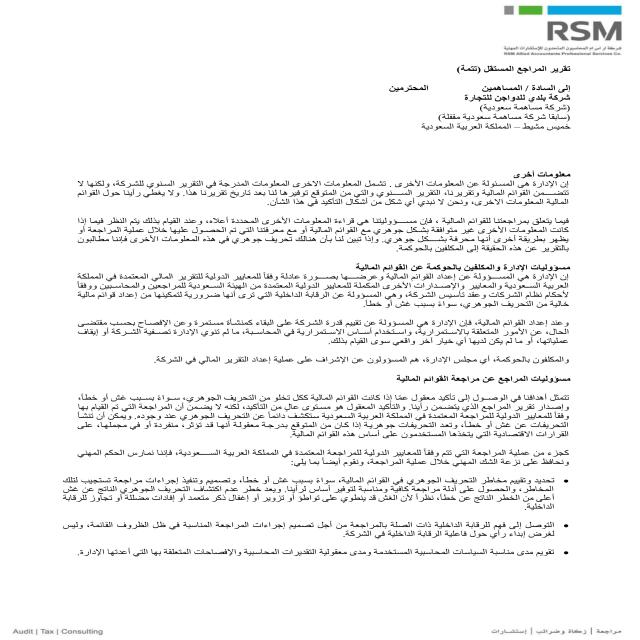auditor_report: (430, 58, 578, 80)
